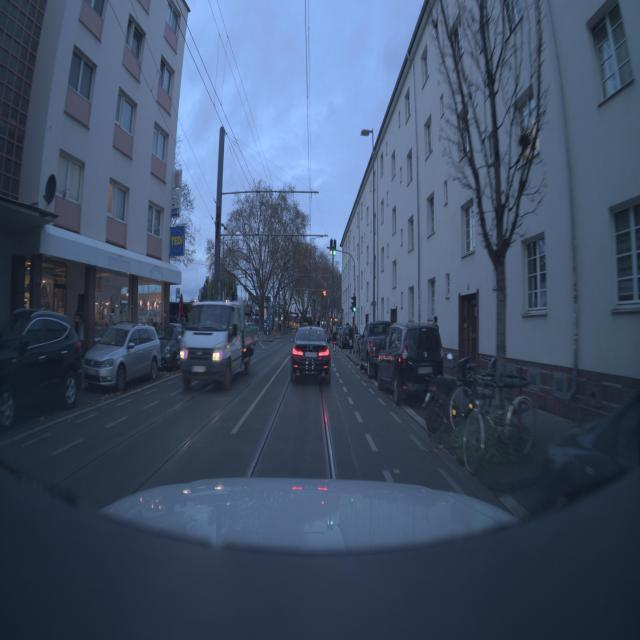green_light: (326, 240, 342, 267), (349, 292, 362, 324)
